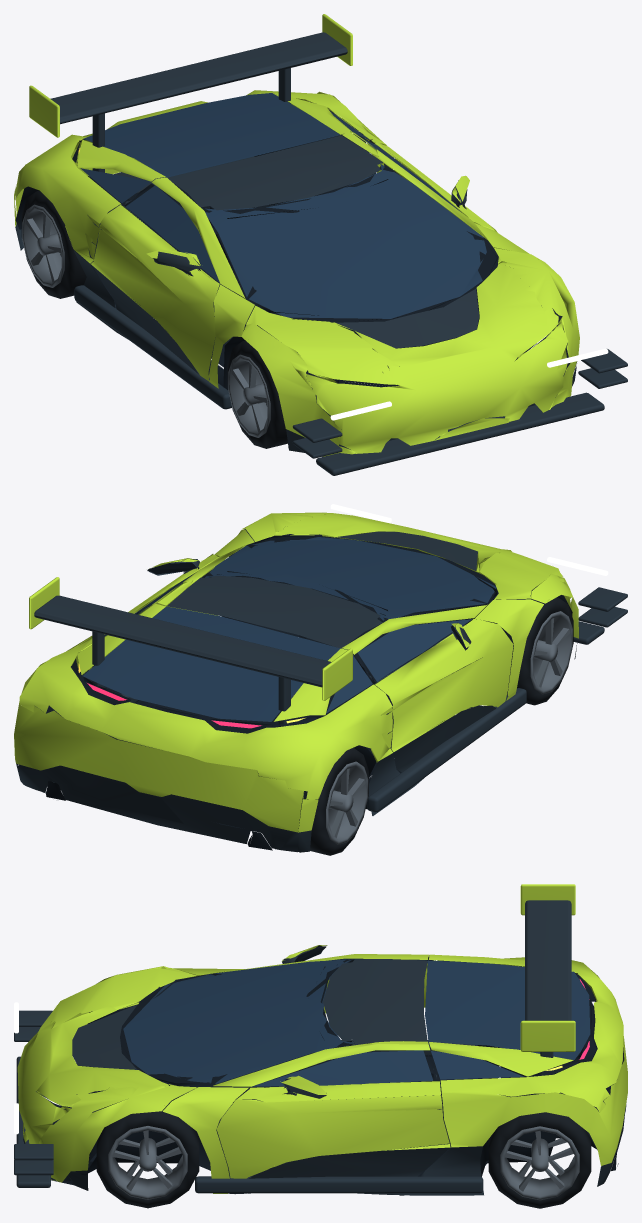
File: vector-lod2.glb
3 renders of one model, top to bottom at view 1: azimuth 30°, elevation 25°; view 2: azimuth 150°, elevation 25°; view 3: azimuth 270°, elevation 25°, orthographic. The views are drawn at different scales.
Visible parts, largest first — view 1: Body, WheelRearR, WheelFrontR; view 2: Body, WheelRearR, WheelFrontR; view 3: Body, WheelFrontL, WheelRearL.
Boxes of the visible parts, box(x1,y1,x2,y2) form: Body: box(14, 14, 627, 475); WheelRearR: box(21, 190, 86, 298); WheelFrontR: box(227, 340, 287, 448); Body: box(14, 504, 627, 852); WheelRearR: box(310, 748, 368, 855); WheelFrontR: box(517, 597, 573, 705); Body: box(14, 884, 627, 1195); WheelFrontL: box(96, 1106, 199, 1208); WheelRearL: box(488, 1112, 591, 1208).
Size of the model in its own units: 2.57 by 1.51 by 4.47.
